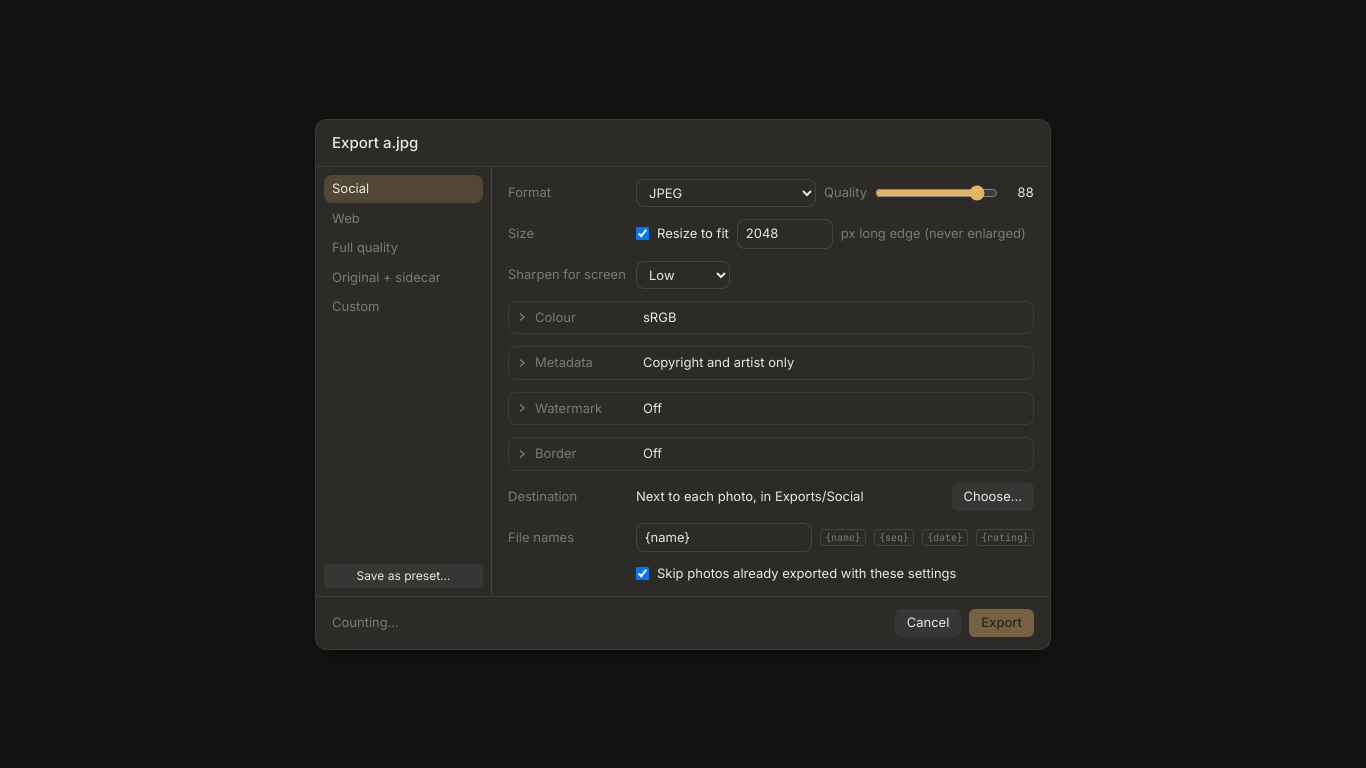
Test: Export dialog › asks for a custom destination again when it is no longer in scope
This screenshot has width=1366, height=768.
Click the button "Choose…": (993, 496) [952,482,1034,510]
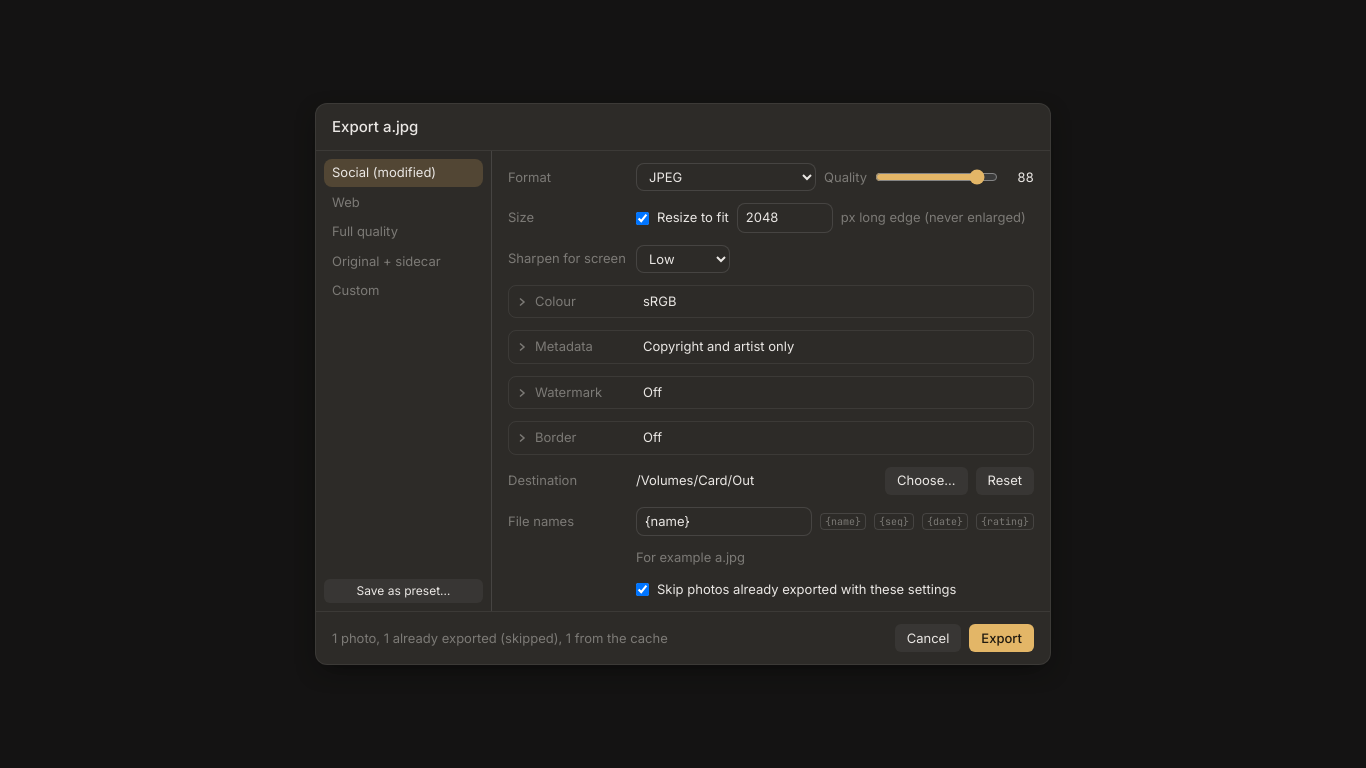
Check: the text titled "/Volumes/Card/Out" is shown, box [636,472,754,488]
Check: the message shows "1 photo", box [332,630,668,646]
Click the button "Export": (1002, 638) [969,624,1034,652]
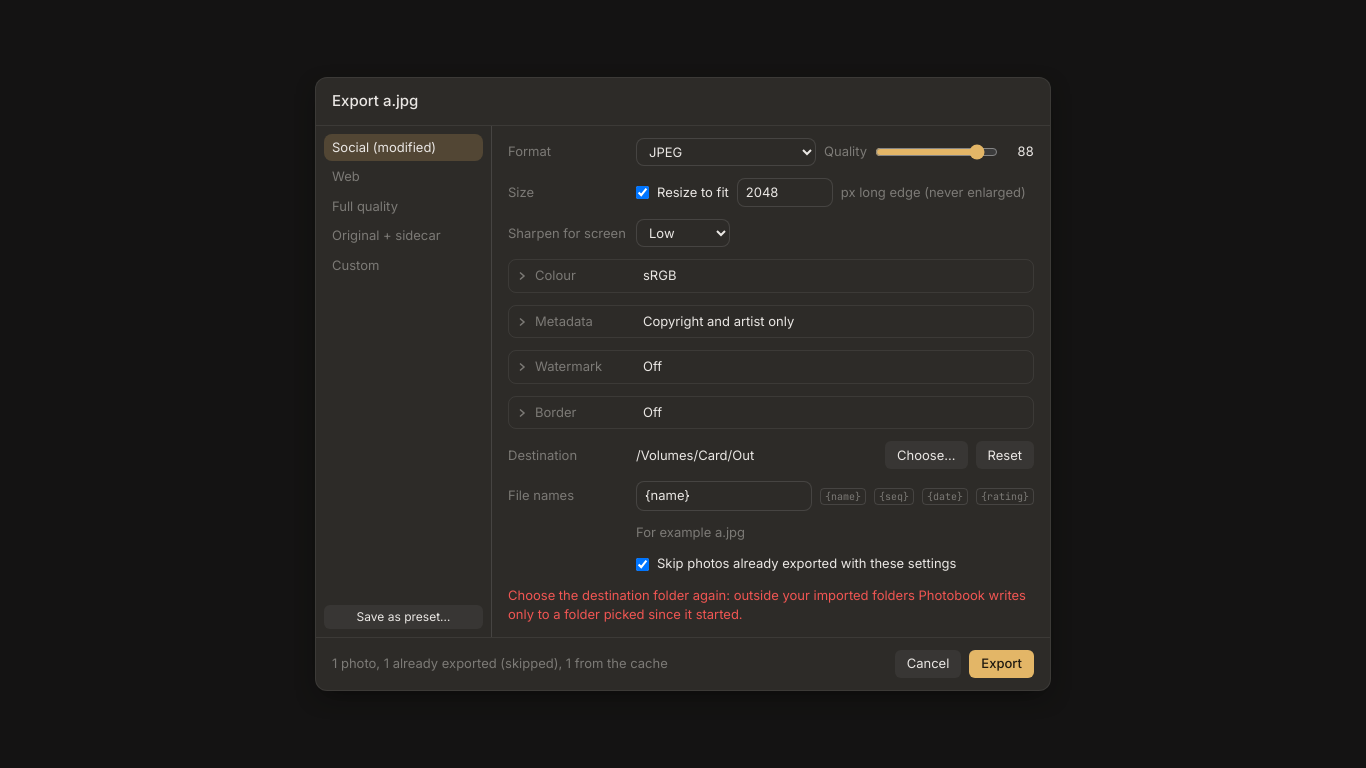
Check: the 1st message shows "Choose the destination folder again", box [508,587,1026,622]
